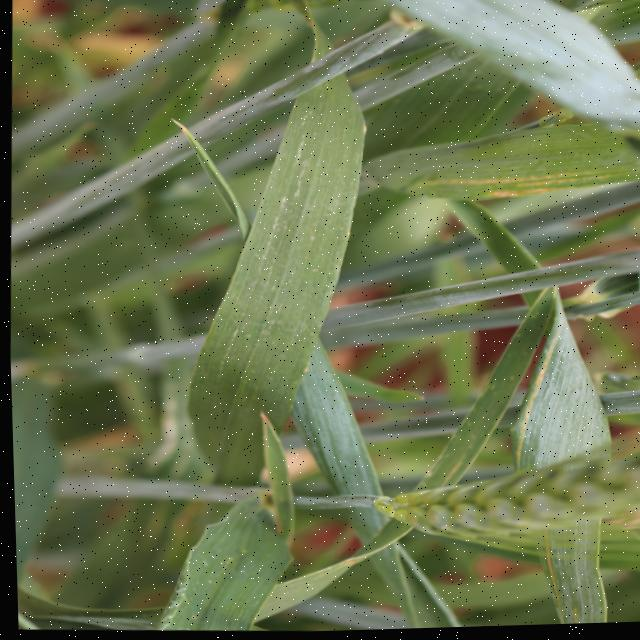healthy_wheat: (143, 64, 392, 479), (302, 219, 640, 353), (333, 0, 640, 140), (346, 431, 640, 552), (280, 519, 497, 634), (122, 512, 295, 636), (12, 527, 131, 633)
yellow_rust: (397, 148, 638, 213), (487, 326, 600, 459), (525, 535, 606, 624)
